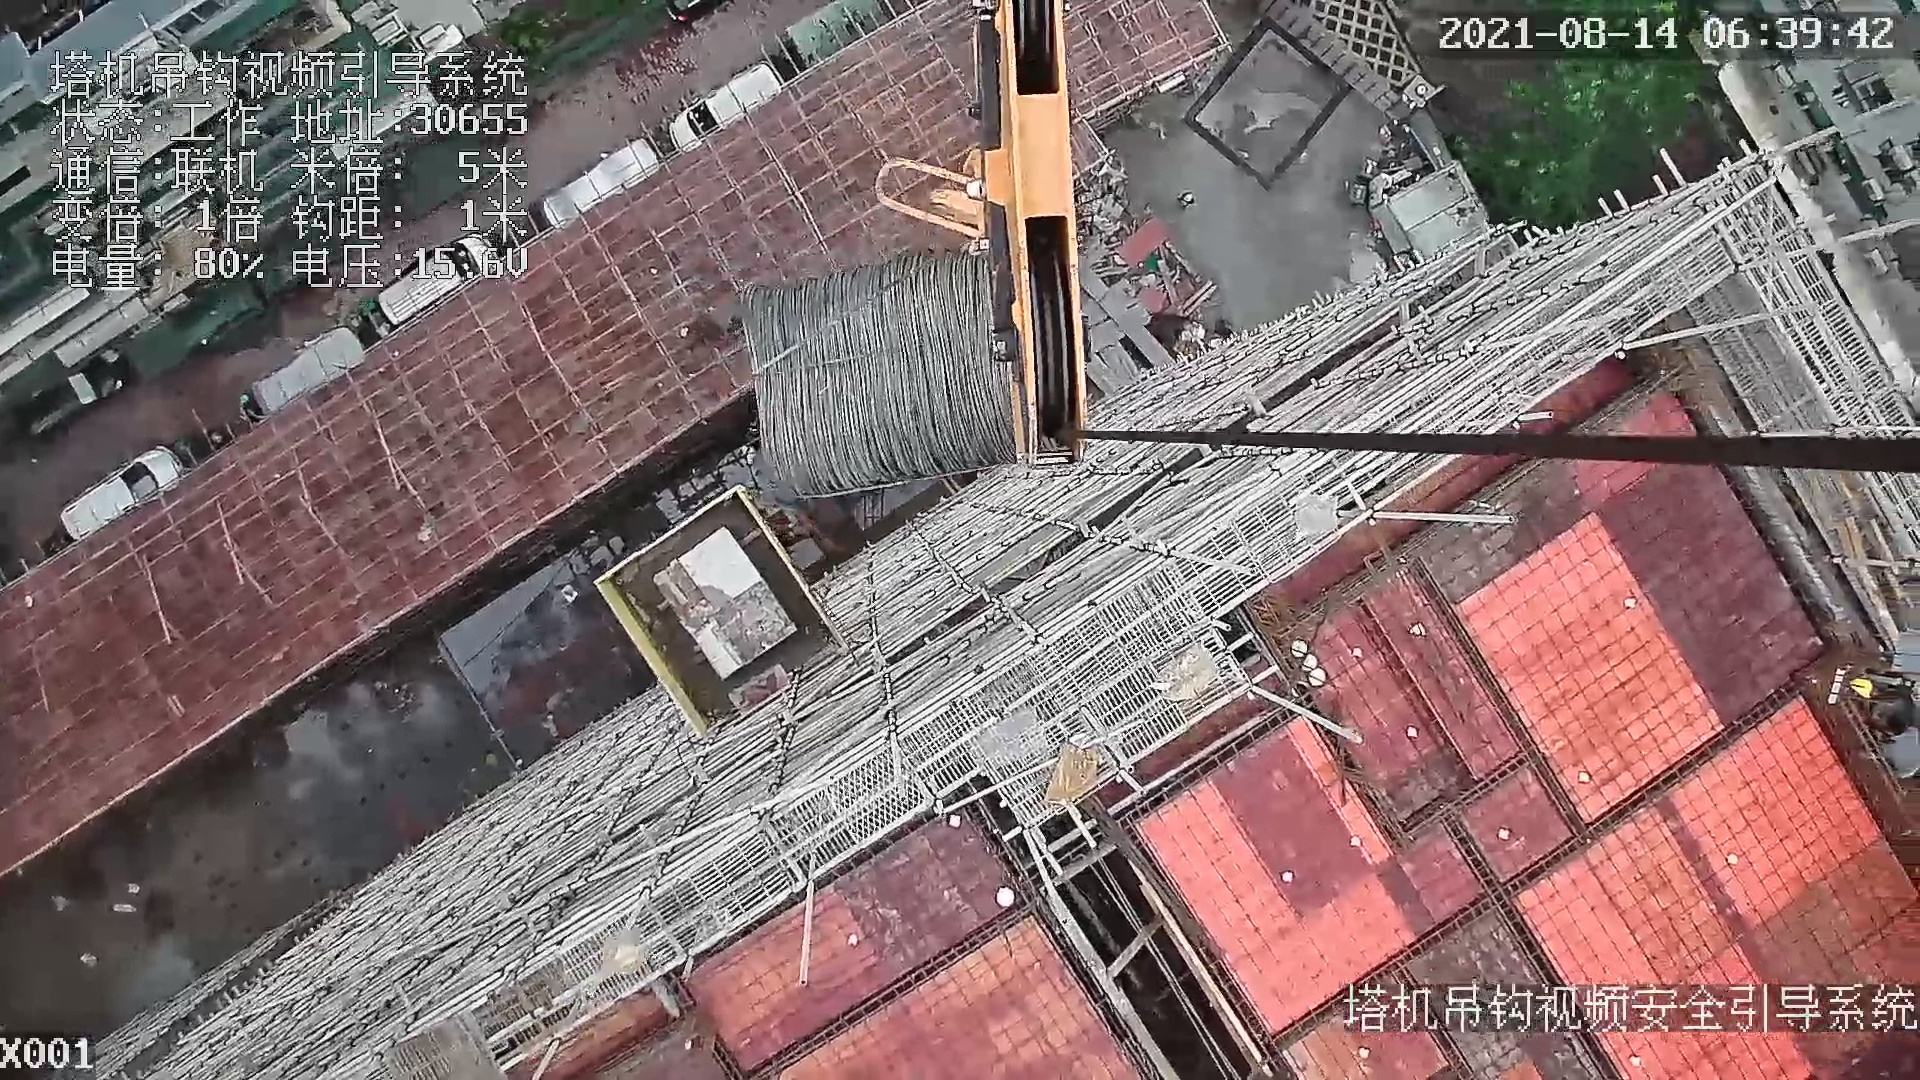hook: (866, 1, 1088, 469)
